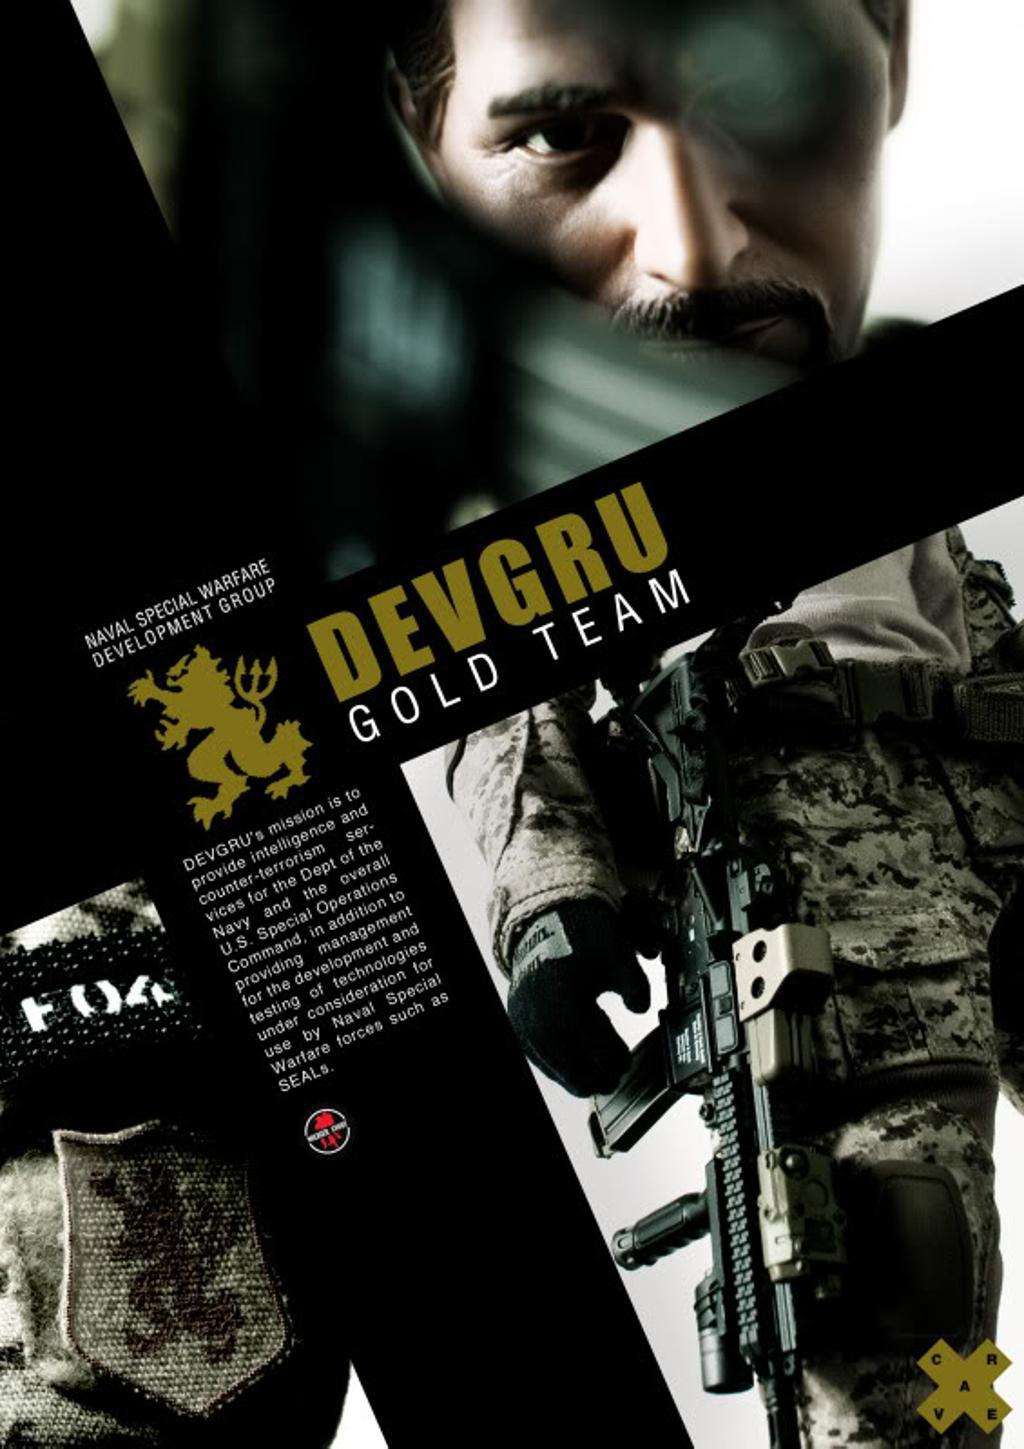face: (434, 12, 881, 535)
